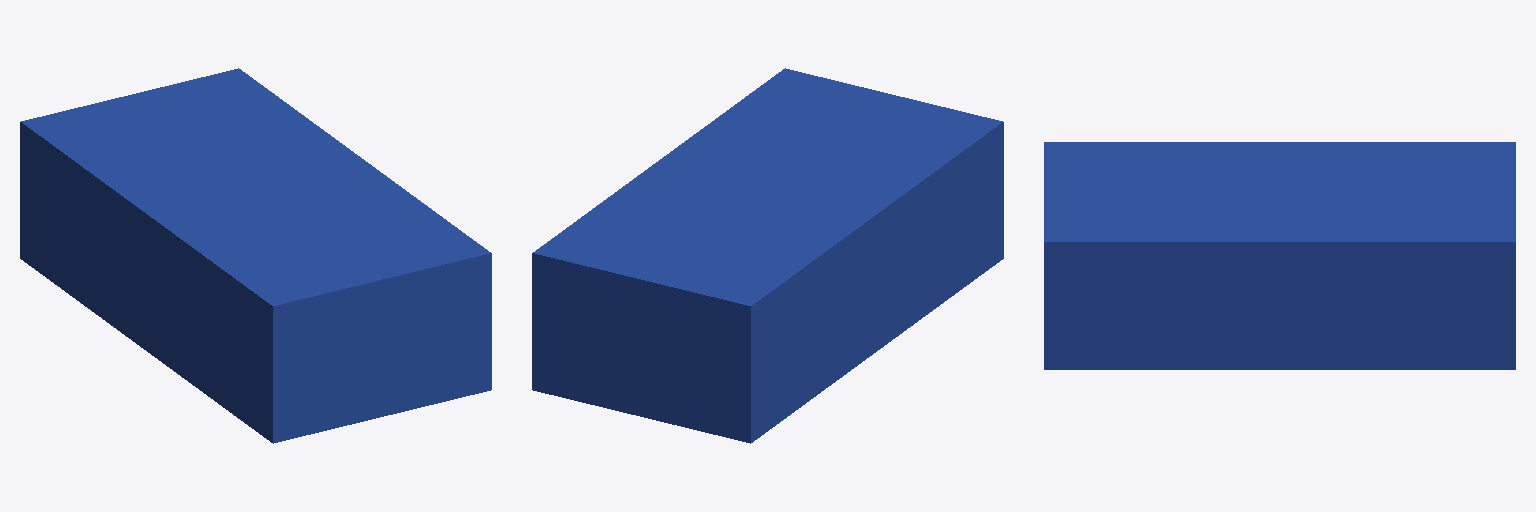
The robot description file, URDF, robot "wall_top":
<?xml version="1.0"?>
<robot name="wall_top">
<link name="wall_top">
<visual>
<origin xyz="0 0 -0.63678143845049017813" rpy="0 -0 0" />
<geometry>
<mesh filename="separated_wall_shapes/wall_top.obj"/>
</geometry>
<material name="wall_top_material">
<color rgba="0.2313725490196078538 0.38039215686274507888 0.7058823529411765163 1.0"/>
</material>
</visual>
<collision>
<origin xyz="0 0 -0.63678143845049017813" rpy="0 -0 0" />
<geometry>
<mesh filename="separated_wall_shapes/wall_top.obj"/>
</geometry>
</collision>
<inertial>
<origin xyz="0 0 0" rpy="0 0 0"/>
<mass value="100" />
<inertia ixx="0" ixy="0"  ixz="0" iyy="0" iyz="0" izz="0" />
</inertial>
</link>


</robot>

--- Facts derived from the render (not from the file) ---
3 views of the same robot in one strip: view 1: azimuth 30°, elevation 25°; view 2: azimuth 150°, elevation 25°; view 3: azimuth 270°, elevation 25° (orthographic).
Robot: wall_top — 1 links, 0 joints (none); root link wall_top; default pose: every joint at zero.
Visible links, largest first — view 1: wall_top; view 2: wall_top; view 3: wall_top.
Boxes of the visible links, x1=… form: wall_top: x1=20, y1=68, x2=491, y2=443; wall_top: x1=532, y1=68, x2=1003, y2=443; wall_top: x1=1044, y1=142, x2=1515, y2=369.
Bounding box of the posed robot: 0.25 × 0.5 × 0.15 m (x, y, z).
Meshes: 1 distinct files referenced, 1 mesh visuals loaded (1 OBJ).